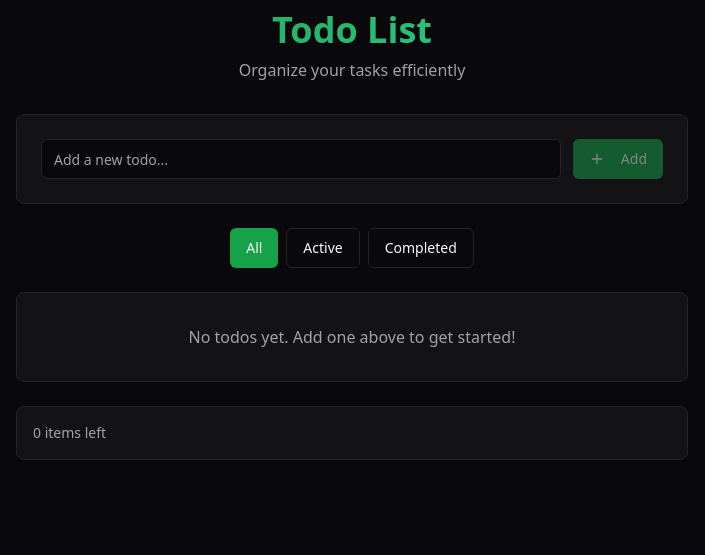
it: TodoApp › should clear completed todos
This screenshot has width=705, height=555.
Type "Todo 1" into the field with placeholder "Add a new todo...". click: (301, 159)
box: [41, 139, 561, 179]
Then press Enter
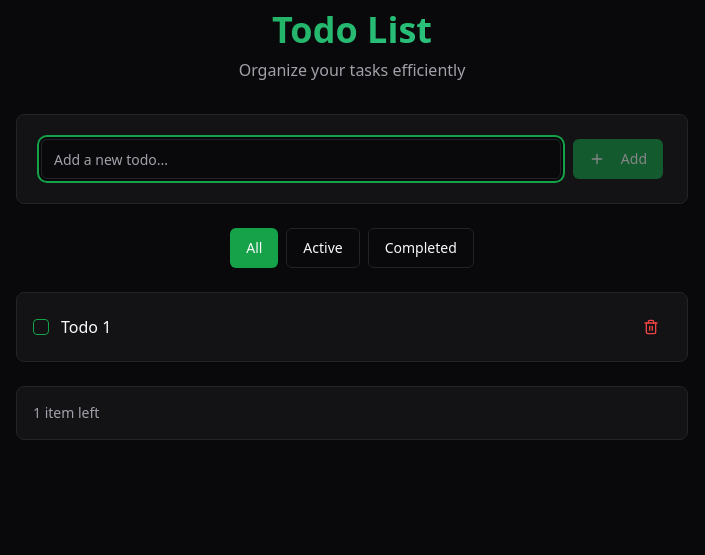
Type "Todo 2" into the field with placeholder "Add a new todo...". click: (301, 159)
box: [41, 139, 561, 179]
Then press Enter
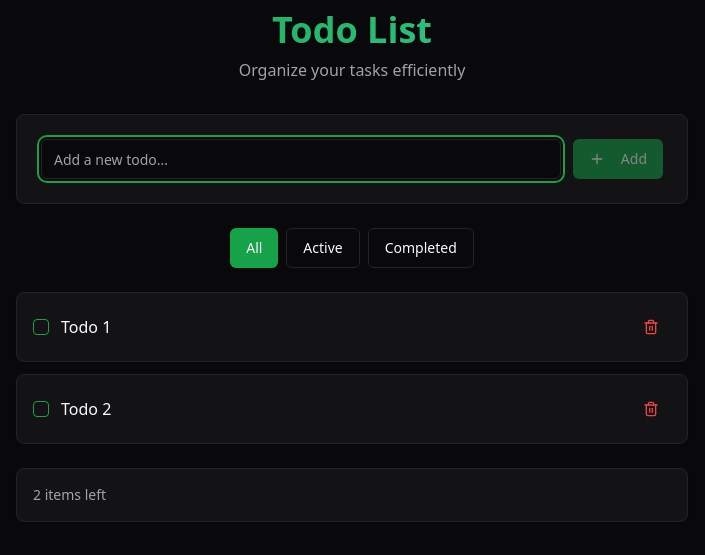
Click the checkbox next to "Todo 1". click: (41, 327)
box: [33, 319, 49, 335]
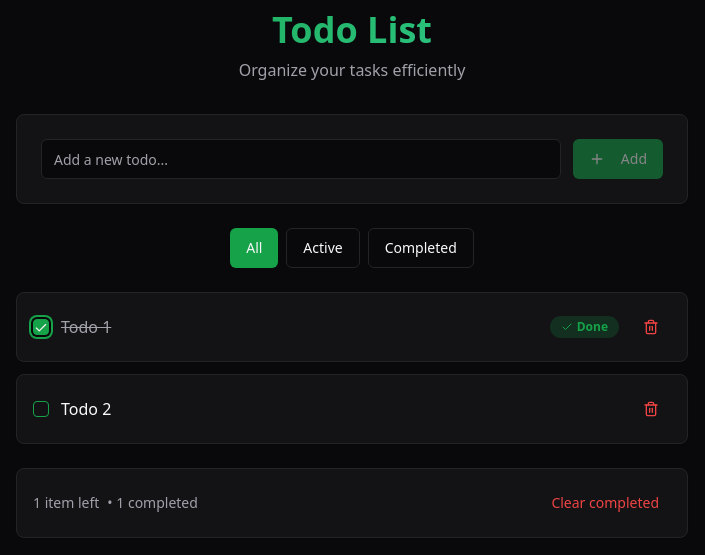
Click the button "Clear completed". click: (605, 503)
box: [539, 485, 671, 521]
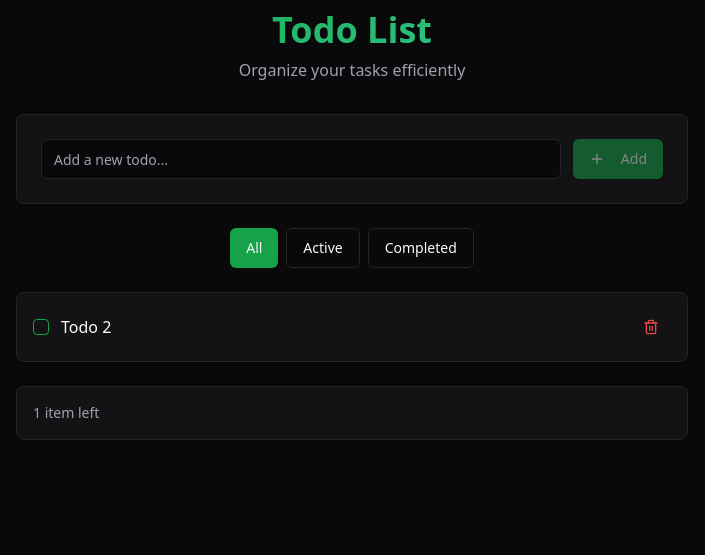
Expected: the text "Todo 2" is shown, [61, 316, 111, 338]
Expected: the text "Todo 1" is gone
